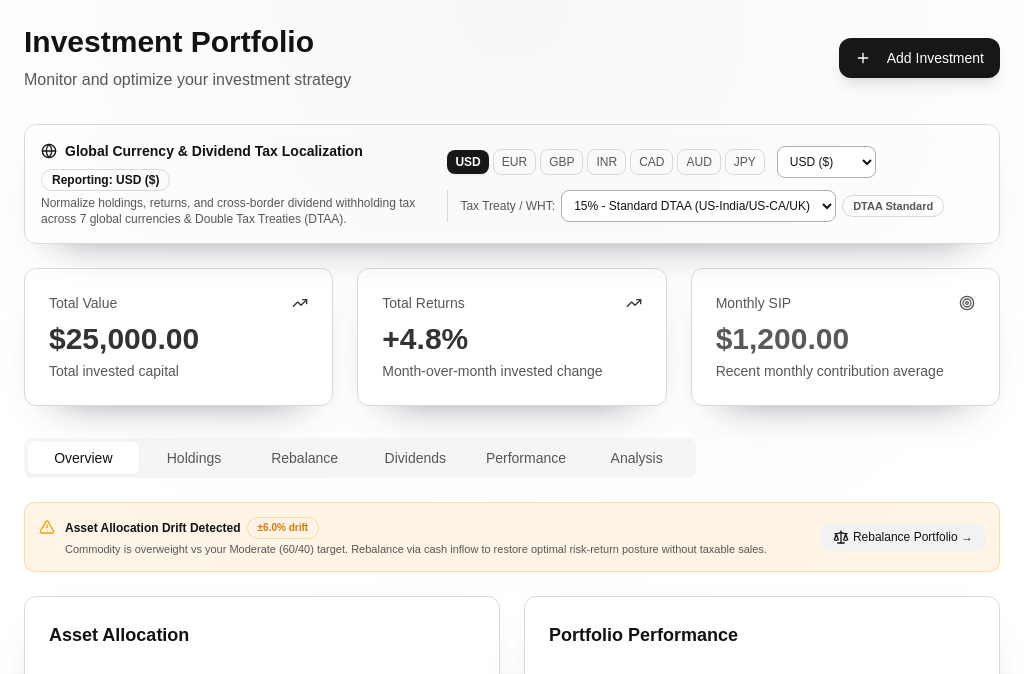
it: Portfolio Page › populates investment presets and submits new investment mutation
Later steps or results of the test are not shown.
Expected: the text "$25,000.00" is shown, [49,322,199,355]
Open Add Investment Dialog
Click the button with test id "button-add-investment".
click(919, 58)  # box [839,38,1000,78]
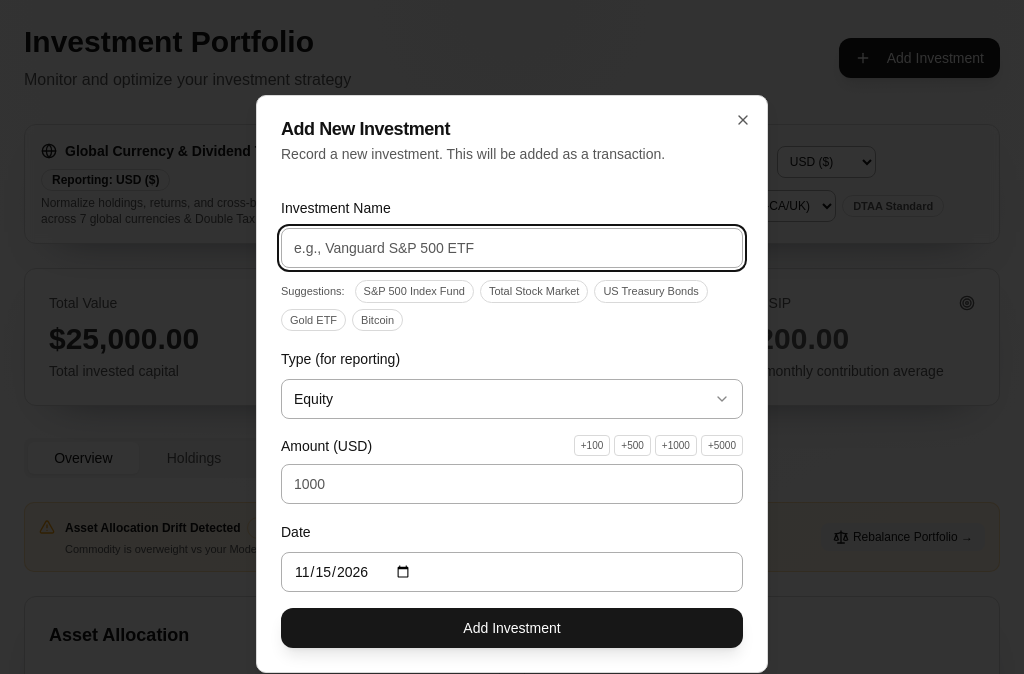
Result: the heading "Add New Investment" is shown at [281,119,450,139]
Click suggestion preset "Bitcoin"
Click the button "Bitcoin".
click(378, 320)  # box [352,308,403,331]
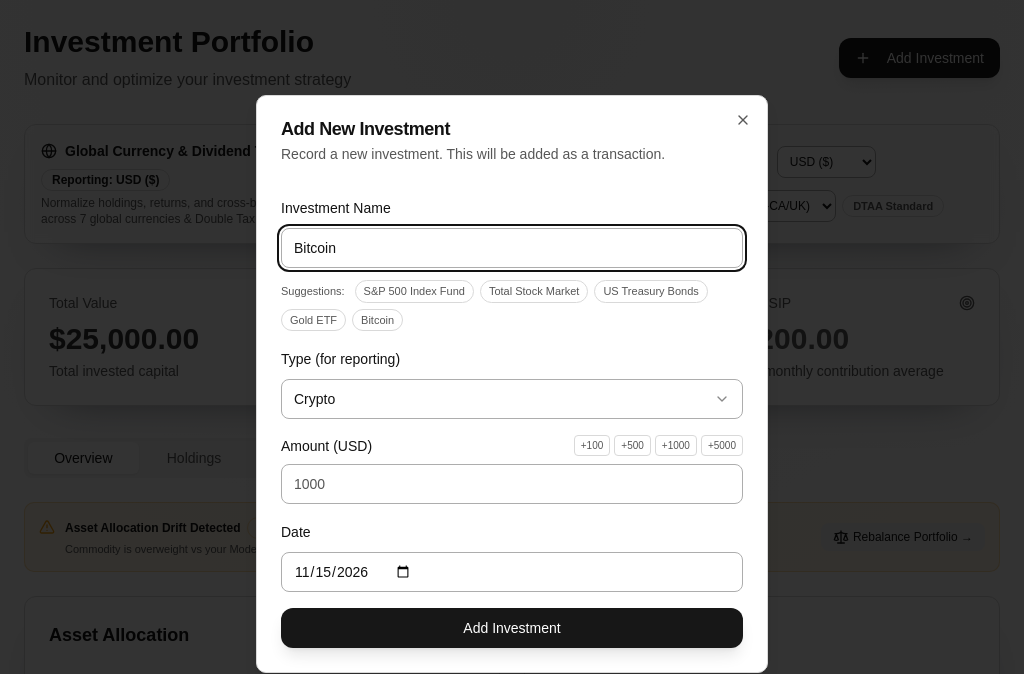
Result: the field labelled "Investment Name" holds "Bitcoin" at [281,228,743,268]
Click amount booster "+1000"
Click the button "+1000".
click(676, 446)  # box [655,435,697,456]
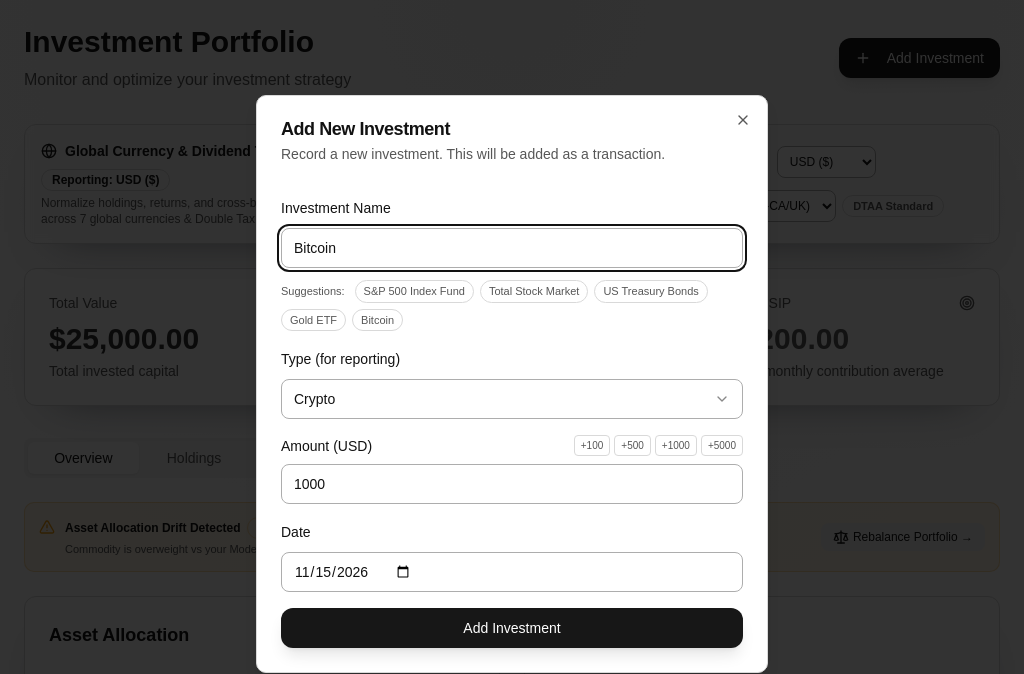
Result: the number field labelled "Amount (USD)" holds "1000" at [281,464,743,504]
